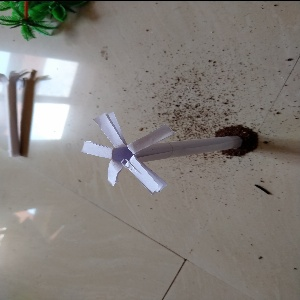weed: (82, 110, 251, 187)
